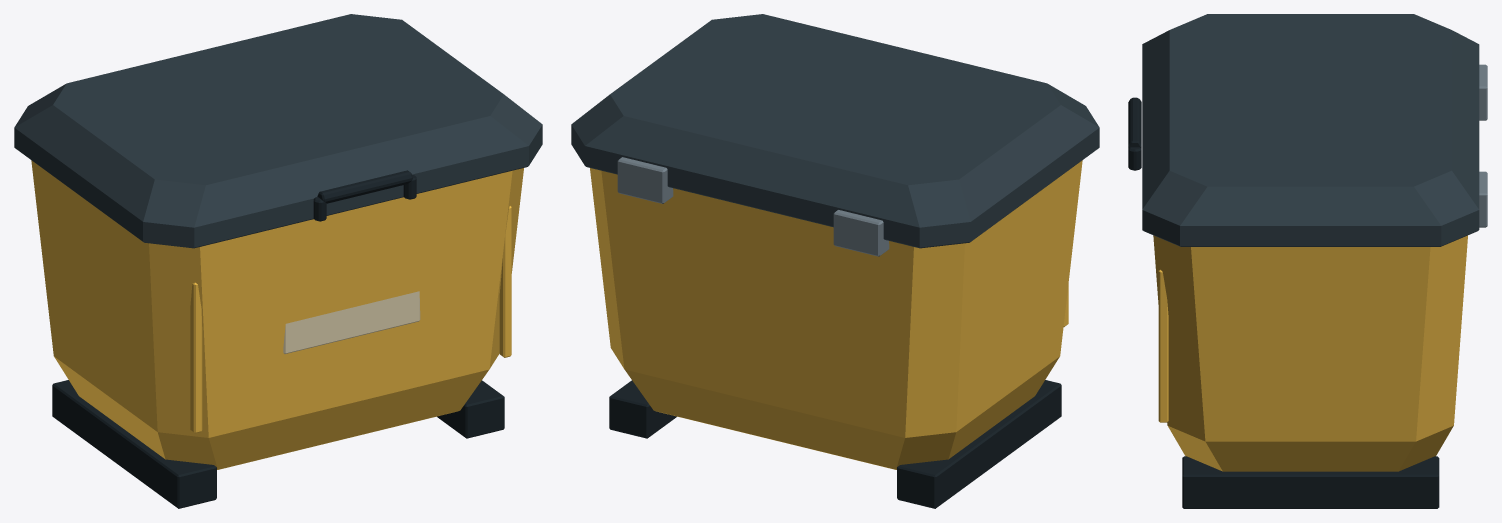
The model's file is b20_municipal_salt_grit_bunker.glb.
The picture shows the model from 3 angles, left to right: view 1: azimuth 30°, elevation 25°; view 2: azimuth 150°, elevation 25°; view 3: azimuth 270°, elevation 25°; orthographic projection.
Visible parts, largest first — view 1: b20_municipal_salt_grit_bunker; view 2: b20_municipal_salt_grit_bunker; view 3: b20_municipal_salt_grit_bunker.
Part boxes in pixels (bbox=[...]): b20_municipal_salt_grit_bunker: bbox=[14, 14, 542, 508]; b20_municipal_salt_grit_bunker: bbox=[571, 14, 1099, 508]; b20_municipal_salt_grit_bunker: bbox=[1128, 14, 1487, 508].
Bounding box in the file's own units: 1.11 × 0.86 × 0.853.
